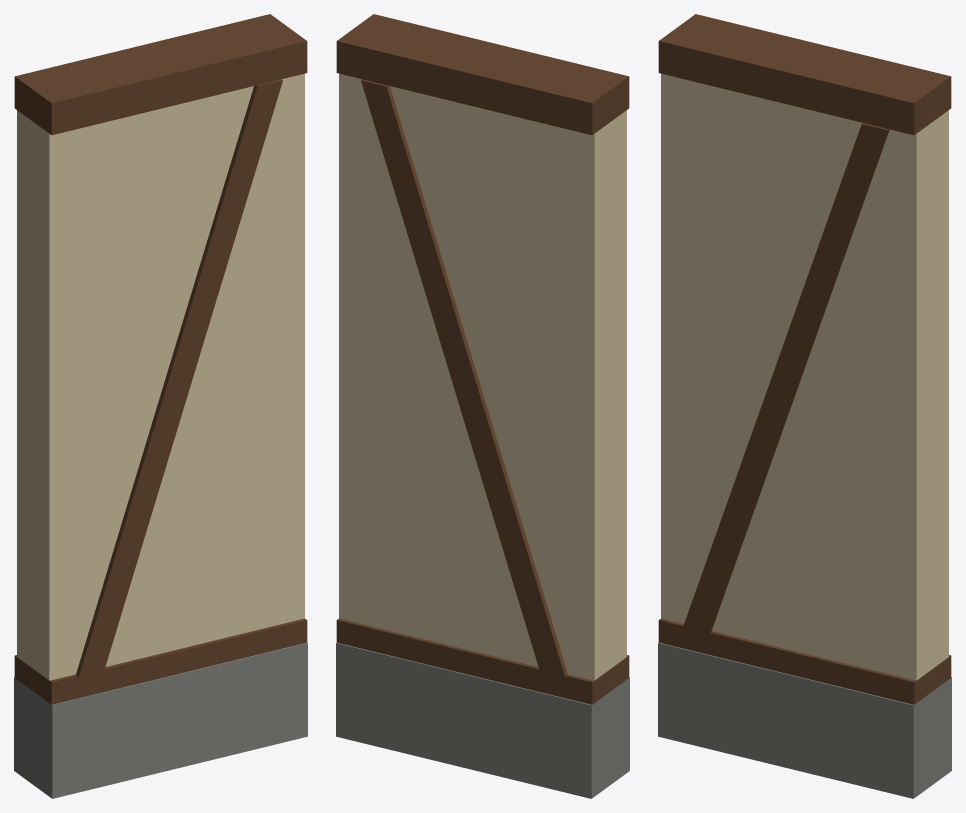
The model's file is WallBraced.fbx.
3 views of the same model, side by side, from view 1: azimuth 30°, elevation 25°; view 2: azimuth 150°, elevation 25°; view 3: azimuth 330°, elevation 25° (orthographic).
Parts seen in each view (by area): view 1: WallBraced; view 2: WallBraced; view 3: WallBraced.
Boxes of the visible parts, x1=… form: WallBraced: x1=14, y1=14, x2=307, y2=798; WallBraced: x1=336, y1=14, x2=629, y2=798; WallBraced: x1=658, y1=14, x2=951, y2=798.
Bounding box in the file's own units: 1 × 2.6 × 0.27.
